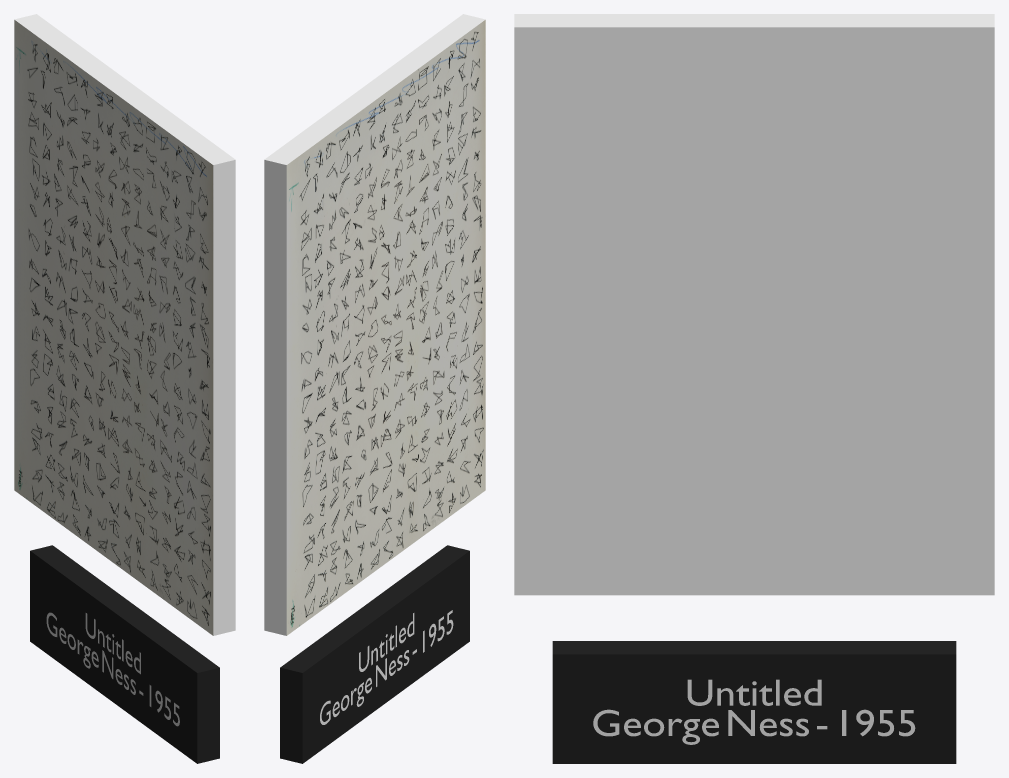
Rendered from GeorgesNess 2.fbx.
3 views of the same model, side by side, from view 1: azimuth 30°, elevation 25°; view 2: azimuth 150°, elevation 25°; view 3: azimuth 270°, elevation 25° (orthographic). The views are drawn at different scales.
Visible parts, largest first — view 1: Georges Ness -1955, Pancarte, Text; view 2: Georges Ness -1955, Pancarte, Text; view 3: Georges Ness -1955, Pancarte, Text.001.
Part boxes in pixels (x1,y1,x2,y2): Georges Ness -1955: (14,14,235,635); Pancarte: (30,545,219,763); Text: (46,612,179,726); Georges Ness -1955: (264,14,485,635); Pancarte: (280,545,469,763); Text: (320,610,453,724); Georges Ness -1955: (514,14,994,595); Pancarte: (552,641,956,763); Text.001: (593,679,915,744).
Size of the model in its own units: 5.2 by 130 by 76.64.
4 materials, 1 textured.
